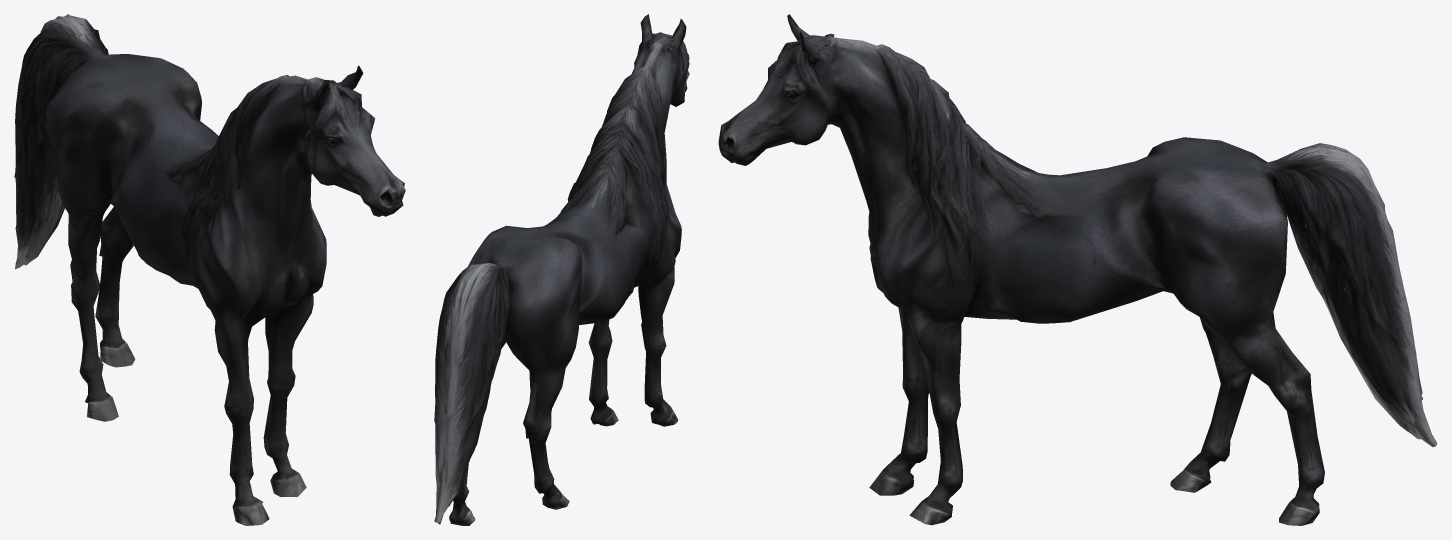
The model's file is animal_horse_black.glb.
3 renders of one model, left to right at view 1: azimuth 30°, elevation 25°; view 2: azimuth 150°, elevation 25°; view 3: azimuth 270°, elevation 25°, orthographic. The views are drawn at different scales.
Visible parts, largest first — view 1: tripo_node_78447a66-341f-44b4-8a78-87468e85393e; view 2: tripo_node_78447a66-341f-44b4-8a78-87468e85393e; view 3: tripo_node_78447a66-341f-44b4-8a78-87468e85393e.
Boxes of the visible parts, x1,y1,x2,y2 form: tripo_node_78447a66-341f-44b4-8a78-87468e85393e: (14,14,405,525); tripo_node_78447a66-341f-44b4-8a78-87468e85393e: (434,14,689,525); tripo_node_78447a66-341f-44b4-8a78-87468e85393e: (718,14,1437,525).
Size of the model in its own units: 0.2037 by 0.7352 by 0.9763.
1 material, 1 textured.
